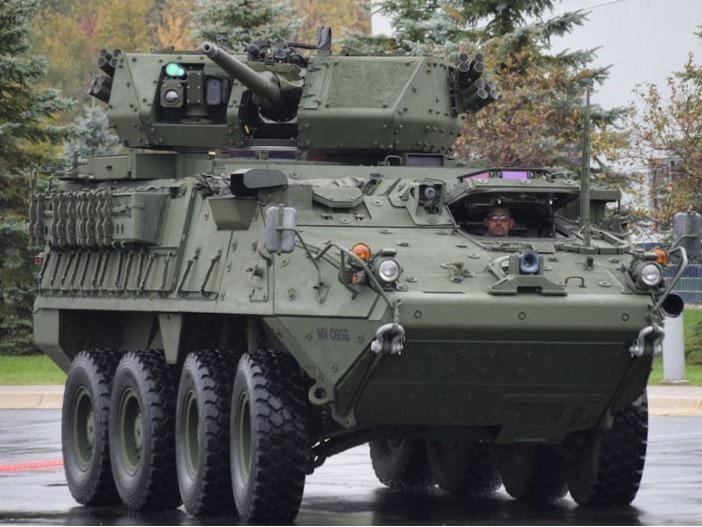MIL_IFV: (38, 27, 684, 524)
